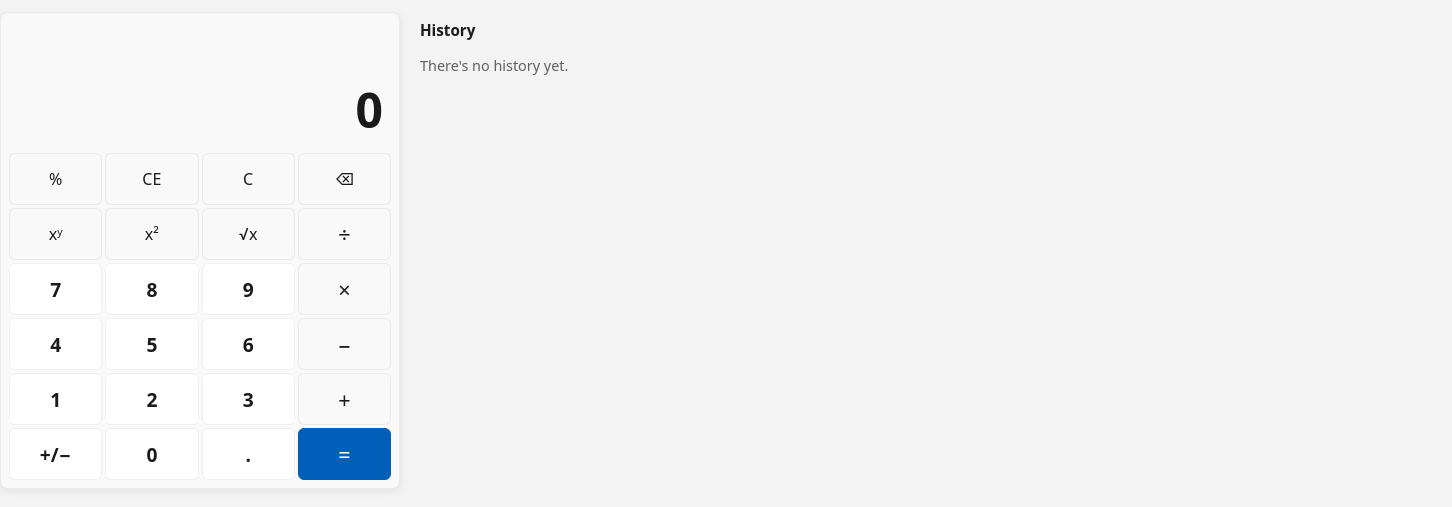
Test: Calculator › supports unary keys
The image size is (1452, 507).
Click the button "2" at point(152, 399), box [105,373,199,425]
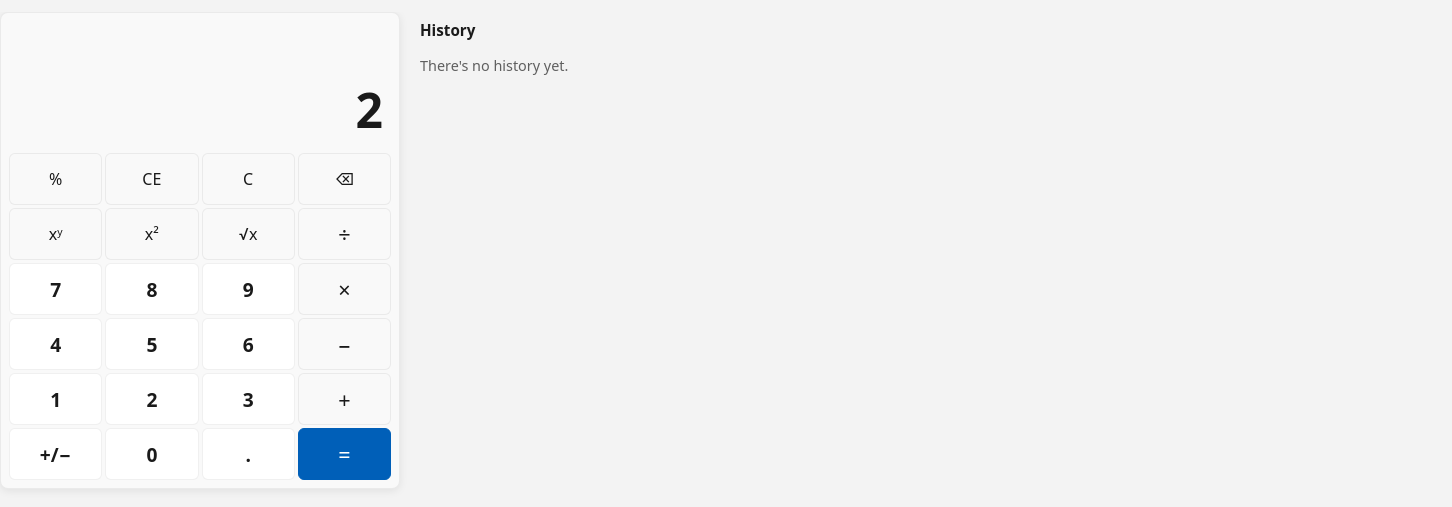
Click the button "3" at point(248, 399), box [202,373,295,425]
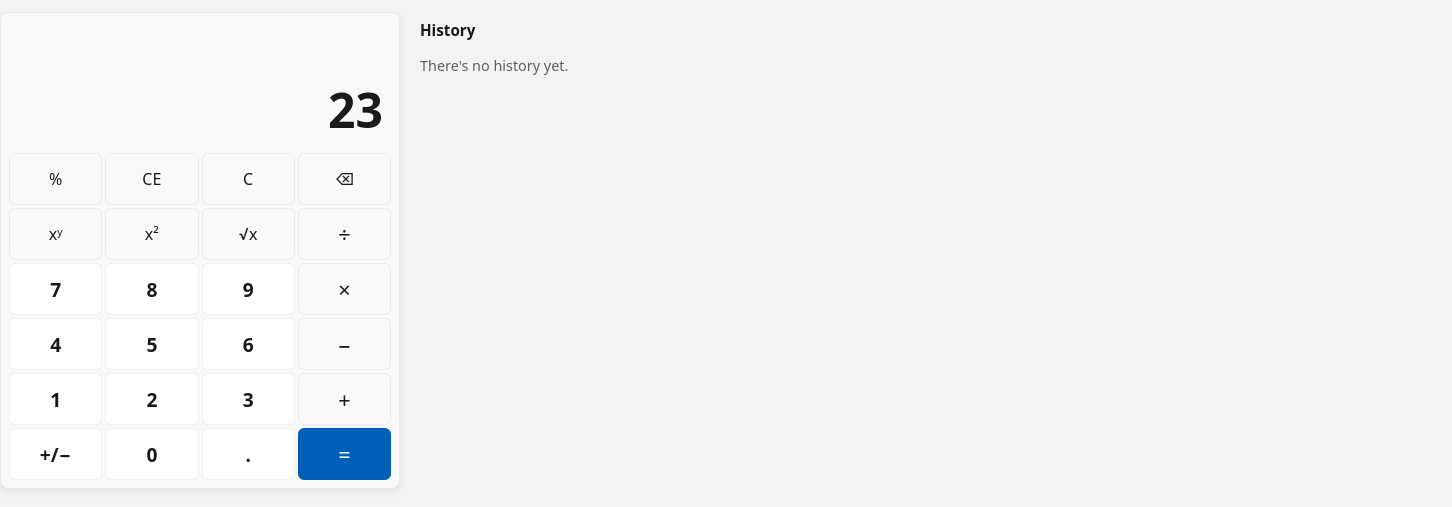
Click the button "0" at point(152, 454), box [105,428,199,480]
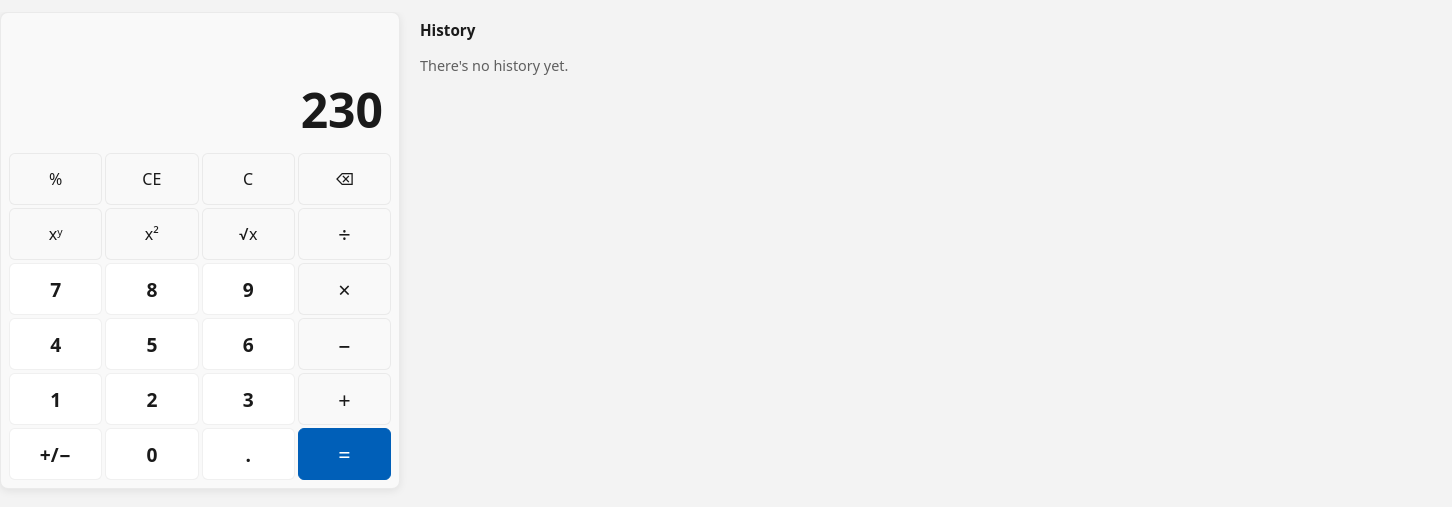
Click the button named "Square root" at point(248, 234), box [202,208,295,260]
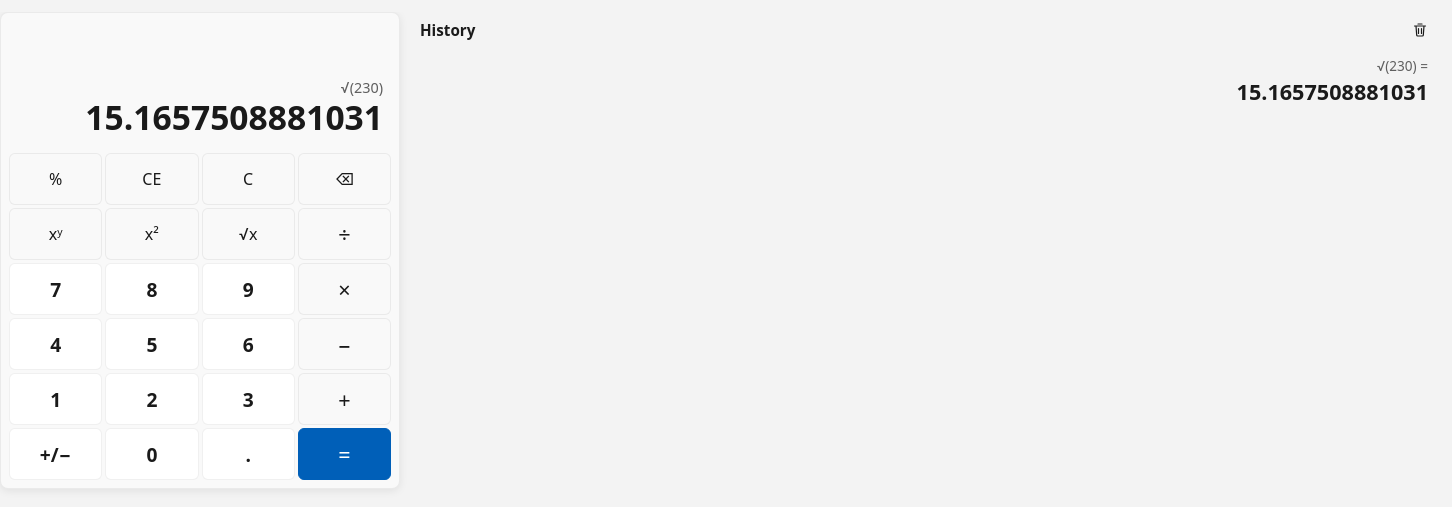
expect the text named "Display" reads "15.1657508881031": met, box [85,94,383,140]
expect the text with test id "expression" reads "√(230)": met, box [341,78,383,97]
